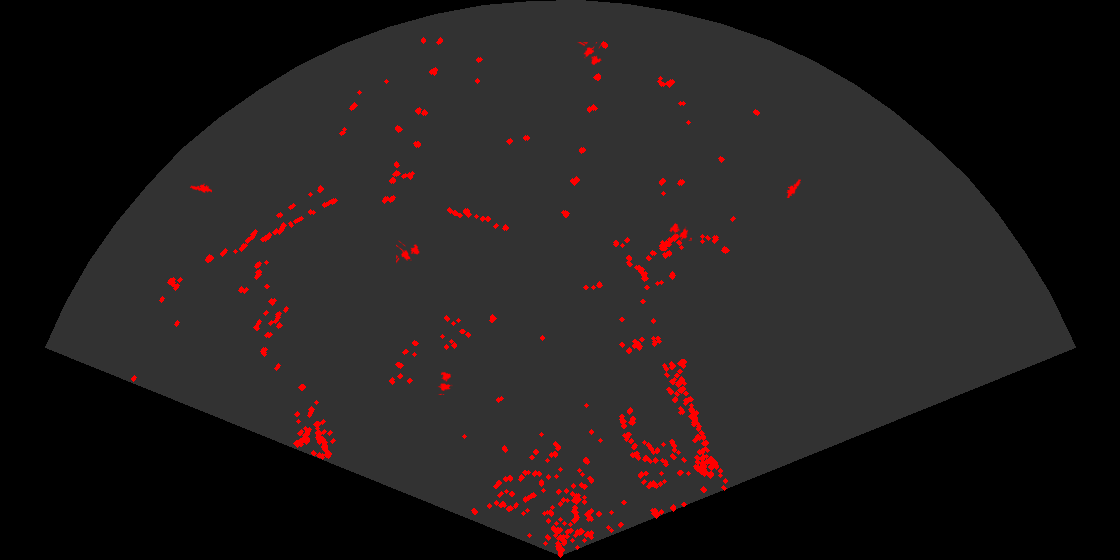cage: (396, 239, 421, 265), (577, 42, 603, 67), (668, 221, 692, 241), (437, 370, 454, 395)
frogman: (785, 177, 801, 198), (188, 182, 212, 195)
